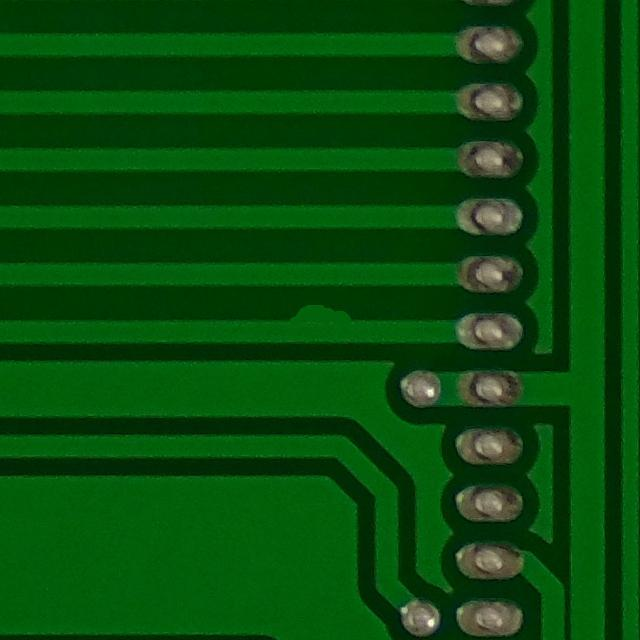spur: (273, 294, 368, 347)
